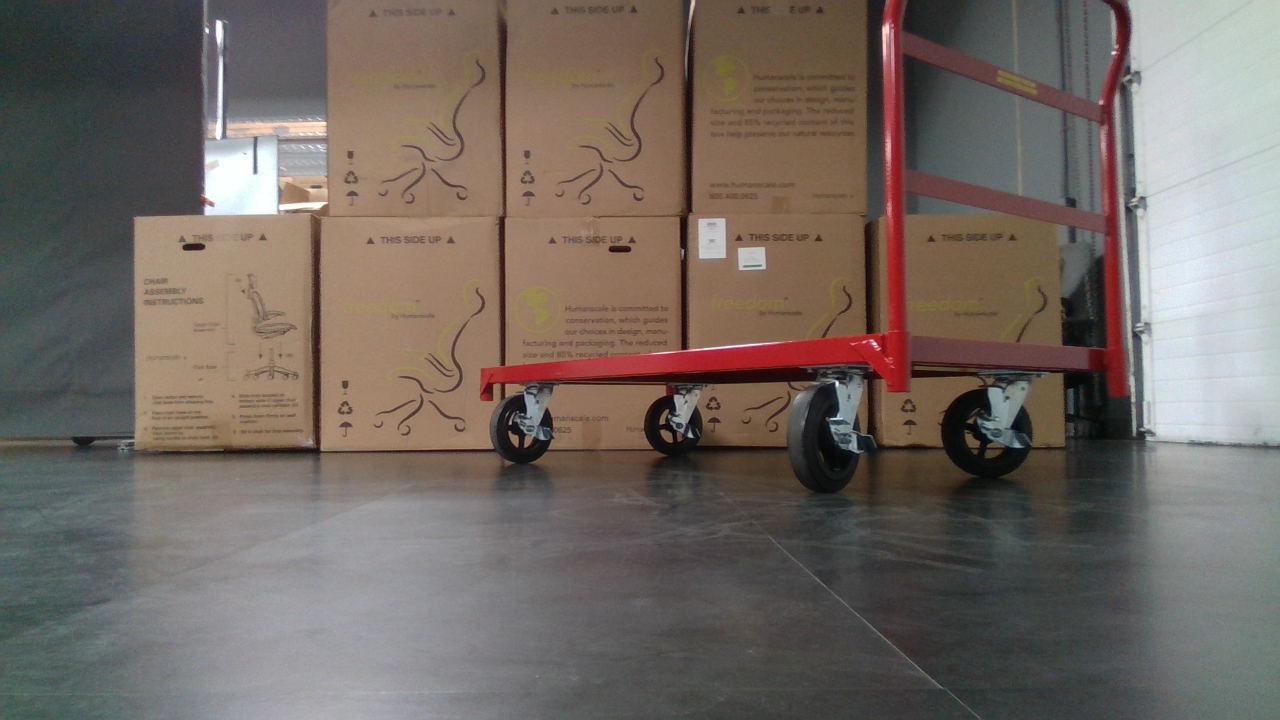Dolly: (468, 0, 1154, 510)
Wheel: (779, 373, 877, 497), (936, 373, 1038, 480), (488, 383, 556, 471), (640, 387, 707, 457)
